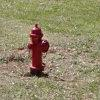Hydrant: (20, 17, 54, 86)
